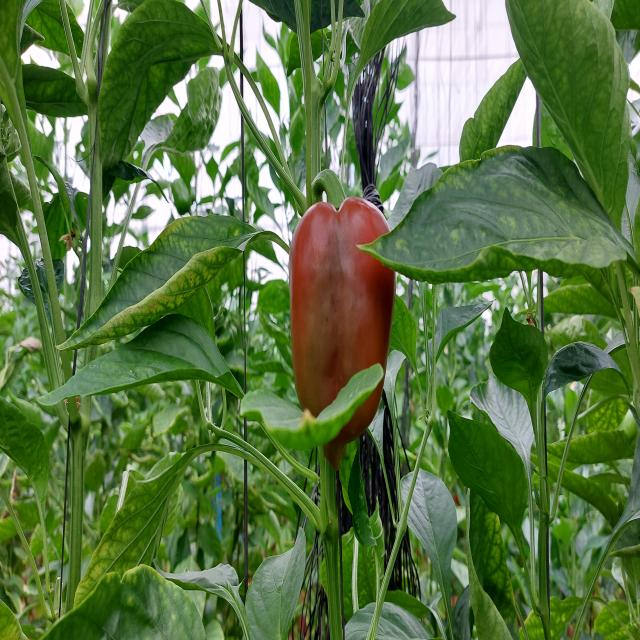BrownishRed--Can-be-Harvested: (290, 208, 386, 467)
